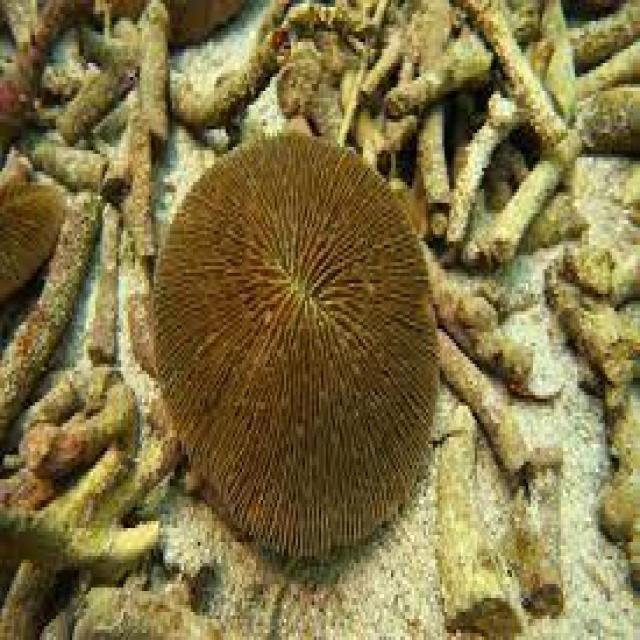Healthy Coral: (150, 137, 439, 564)
